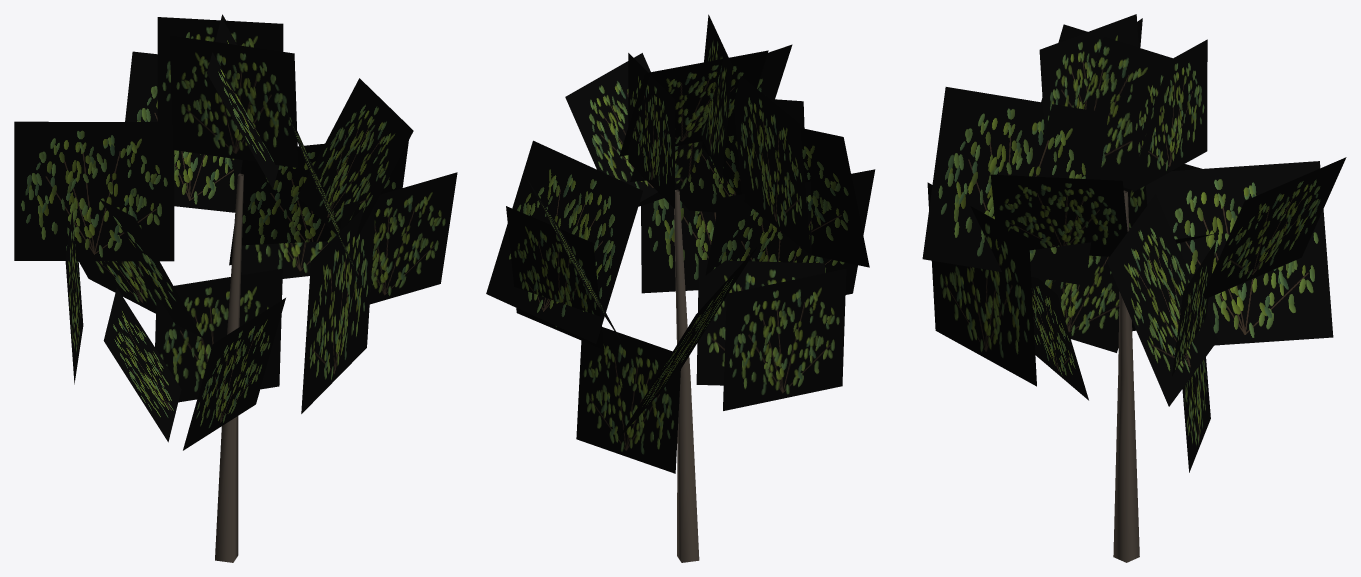
File: tpl_dike_row_dike_ash_lo.glb
3 views of the same model, side by side, from view 1: azimuth 30°, elevation 25°; view 2: azimuth 150°, elevation 25°; view 3: azimuth 270°, elevation 25° (orthographic). The views are drawn at different scales.
Parts seen in each view (by area): view 1: tpl_dike_row_dike_ash_lo; view 2: tpl_dike_row_dike_ash_lo; view 3: tpl_dike_row_dike_ash_lo.
Part boxes in pixels (x1,y1,x2,y2): tpl_dike_row_dike_ash_lo: [14, 14, 457, 562]; tpl_dike_row_dike_ash_lo: [486, 14, 875, 562]; tpl_dike_row_dike_ash_lo: [922, 14, 1346, 562].
Bounding box in the file's own units: 13.42 × 19.3 × 14.88.
2 materials, 1 textured.
